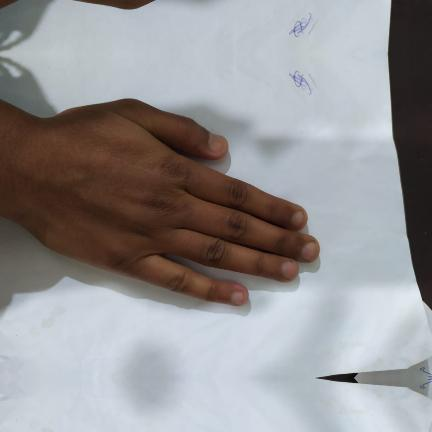Nail: (208, 132, 225, 154), (302, 241, 316, 260), (291, 211, 304, 229), (282, 262, 294, 279), (232, 291, 244, 306)
